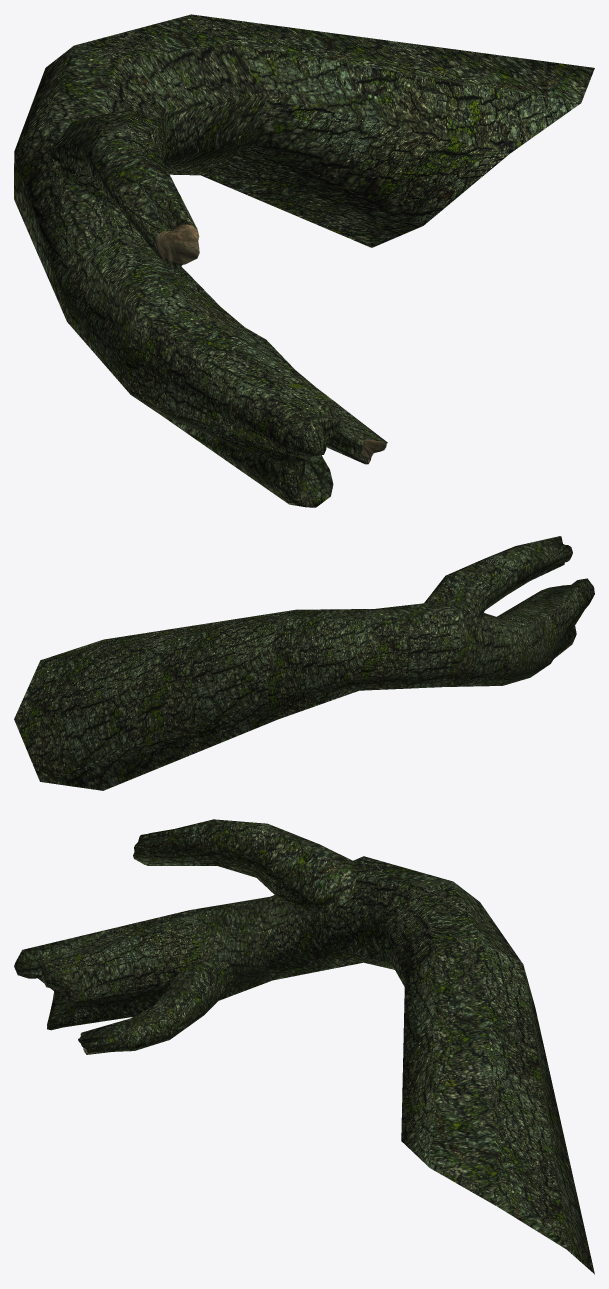
File: flora_treestump_wg_01.obj
3 views of the same model, one above another, from view 1: azimuth 30°, elevation 25°; view 2: azimuth 150°, elevation 25°; view 3: azimuth 270°, elevation 25° (orthographic). The views are drawn at different scales.
Visible parts, largest first — view 1: Tri Flora_treestump_WG_01 0, Tri Flora_treestump_WG_01 1; view 2: Tri Flora_treestump_WG_01 0; view 3: Tri Flora_treestump_WG_01 0.
Part boxes in pixels (x1,y1,x2,y2): Tri Flora_treestump_WG_01 0: (14, 14, 594, 507); Tri Flora_treestump_WG_01 1: (155, 224, 386, 464); Tri Flora_treestump_WG_01 0: (14, 536, 594, 790); Tri Flora_treestump_WG_01 0: (14, 819, 594, 1274).
Bounding box in the file's own units: 1078 × 553 × 1124.
Materials: 2 (2 with a texture image).
